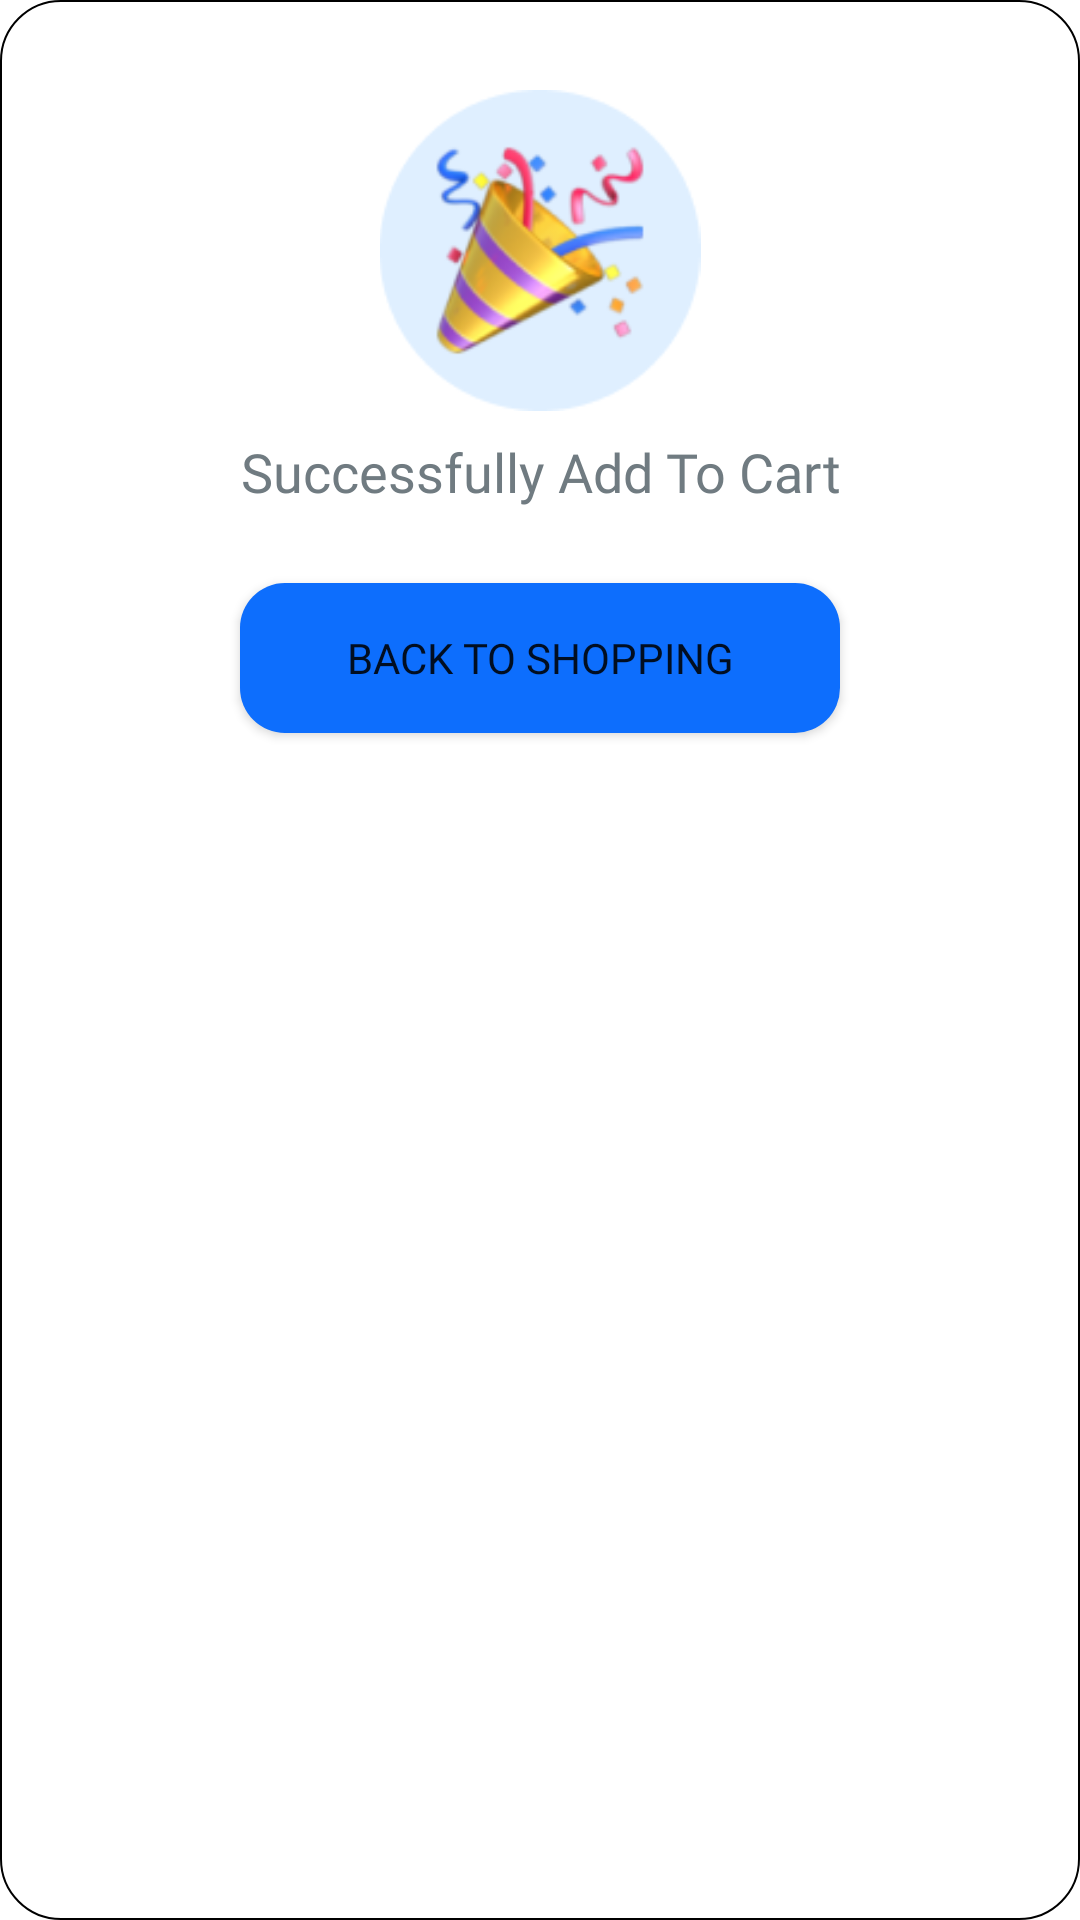

Icon bounding boxes for this 1080*1920 phone screenshot, format bbox(x1, y1, x2, y2):
congrat: bbox(380, 90, 701, 411)
